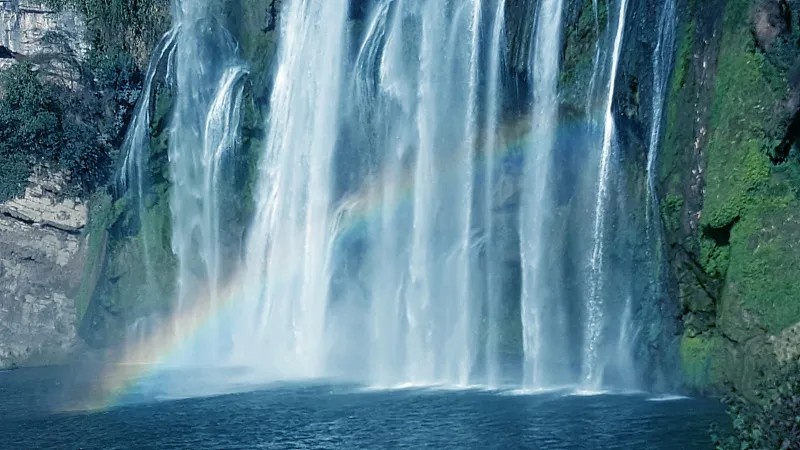Huangguoshu: (127, 1, 686, 399)
